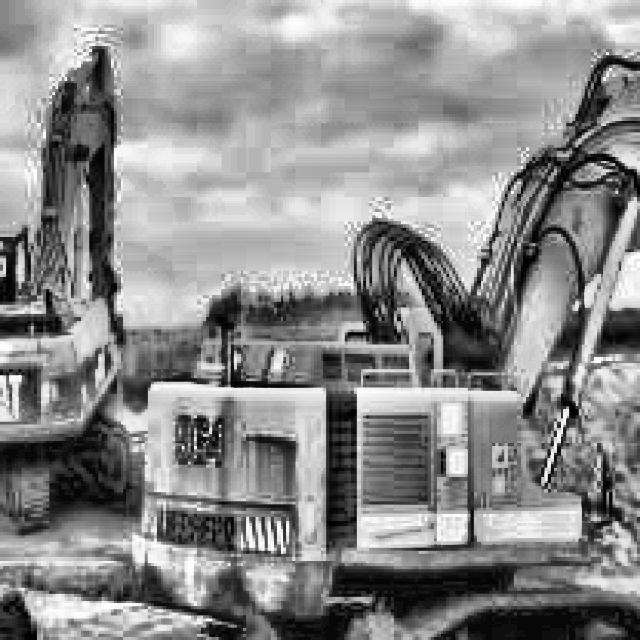excavator: (132, 43, 640, 640), (0, 21, 132, 553)
